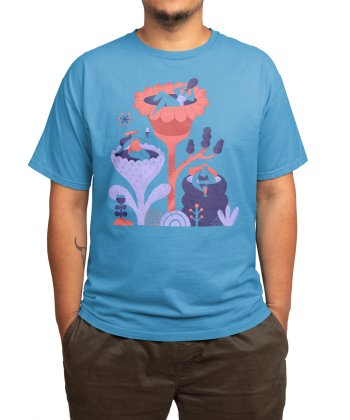design: (105, 75, 241, 229)
